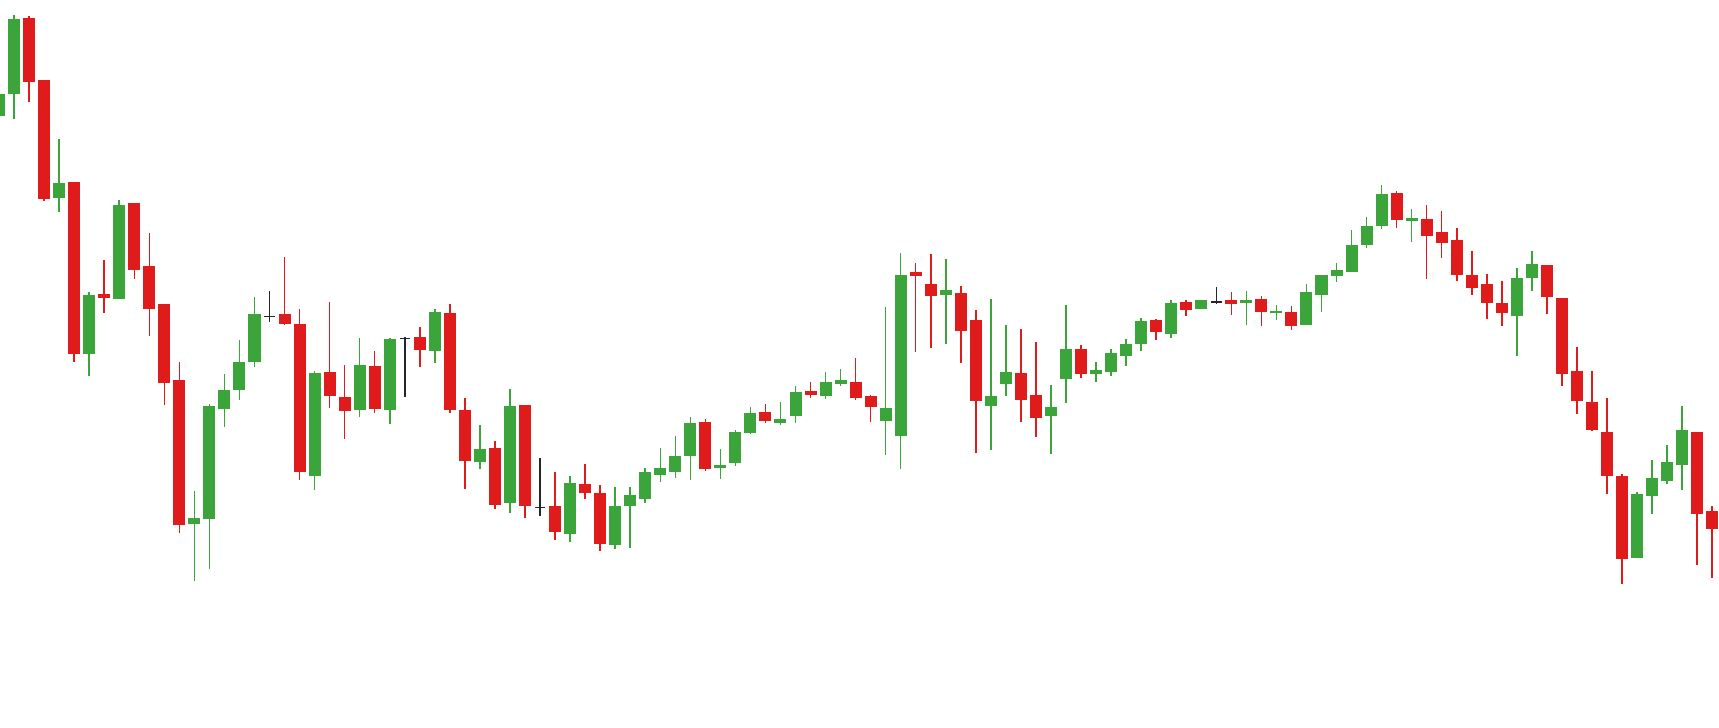buy: (970, 339, 1057, 460)
